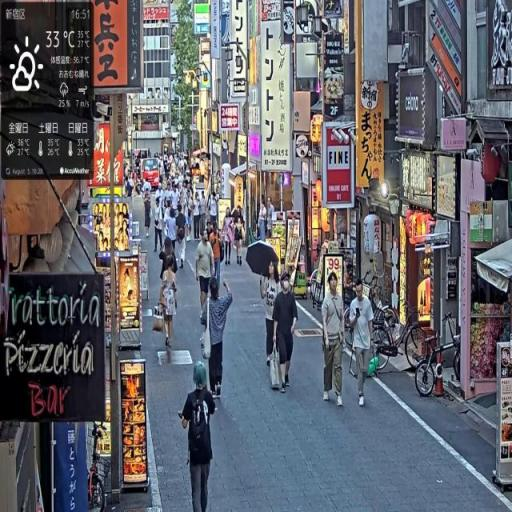person: (179, 360, 217, 512), (202, 276, 235, 403), (347, 277, 376, 412), (270, 273, 299, 396), (322, 272, 347, 407), (261, 262, 283, 371), (158, 260, 179, 352), (197, 228, 216, 326), (175, 206, 189, 271), (222, 209, 235, 272), (154, 197, 164, 255)
